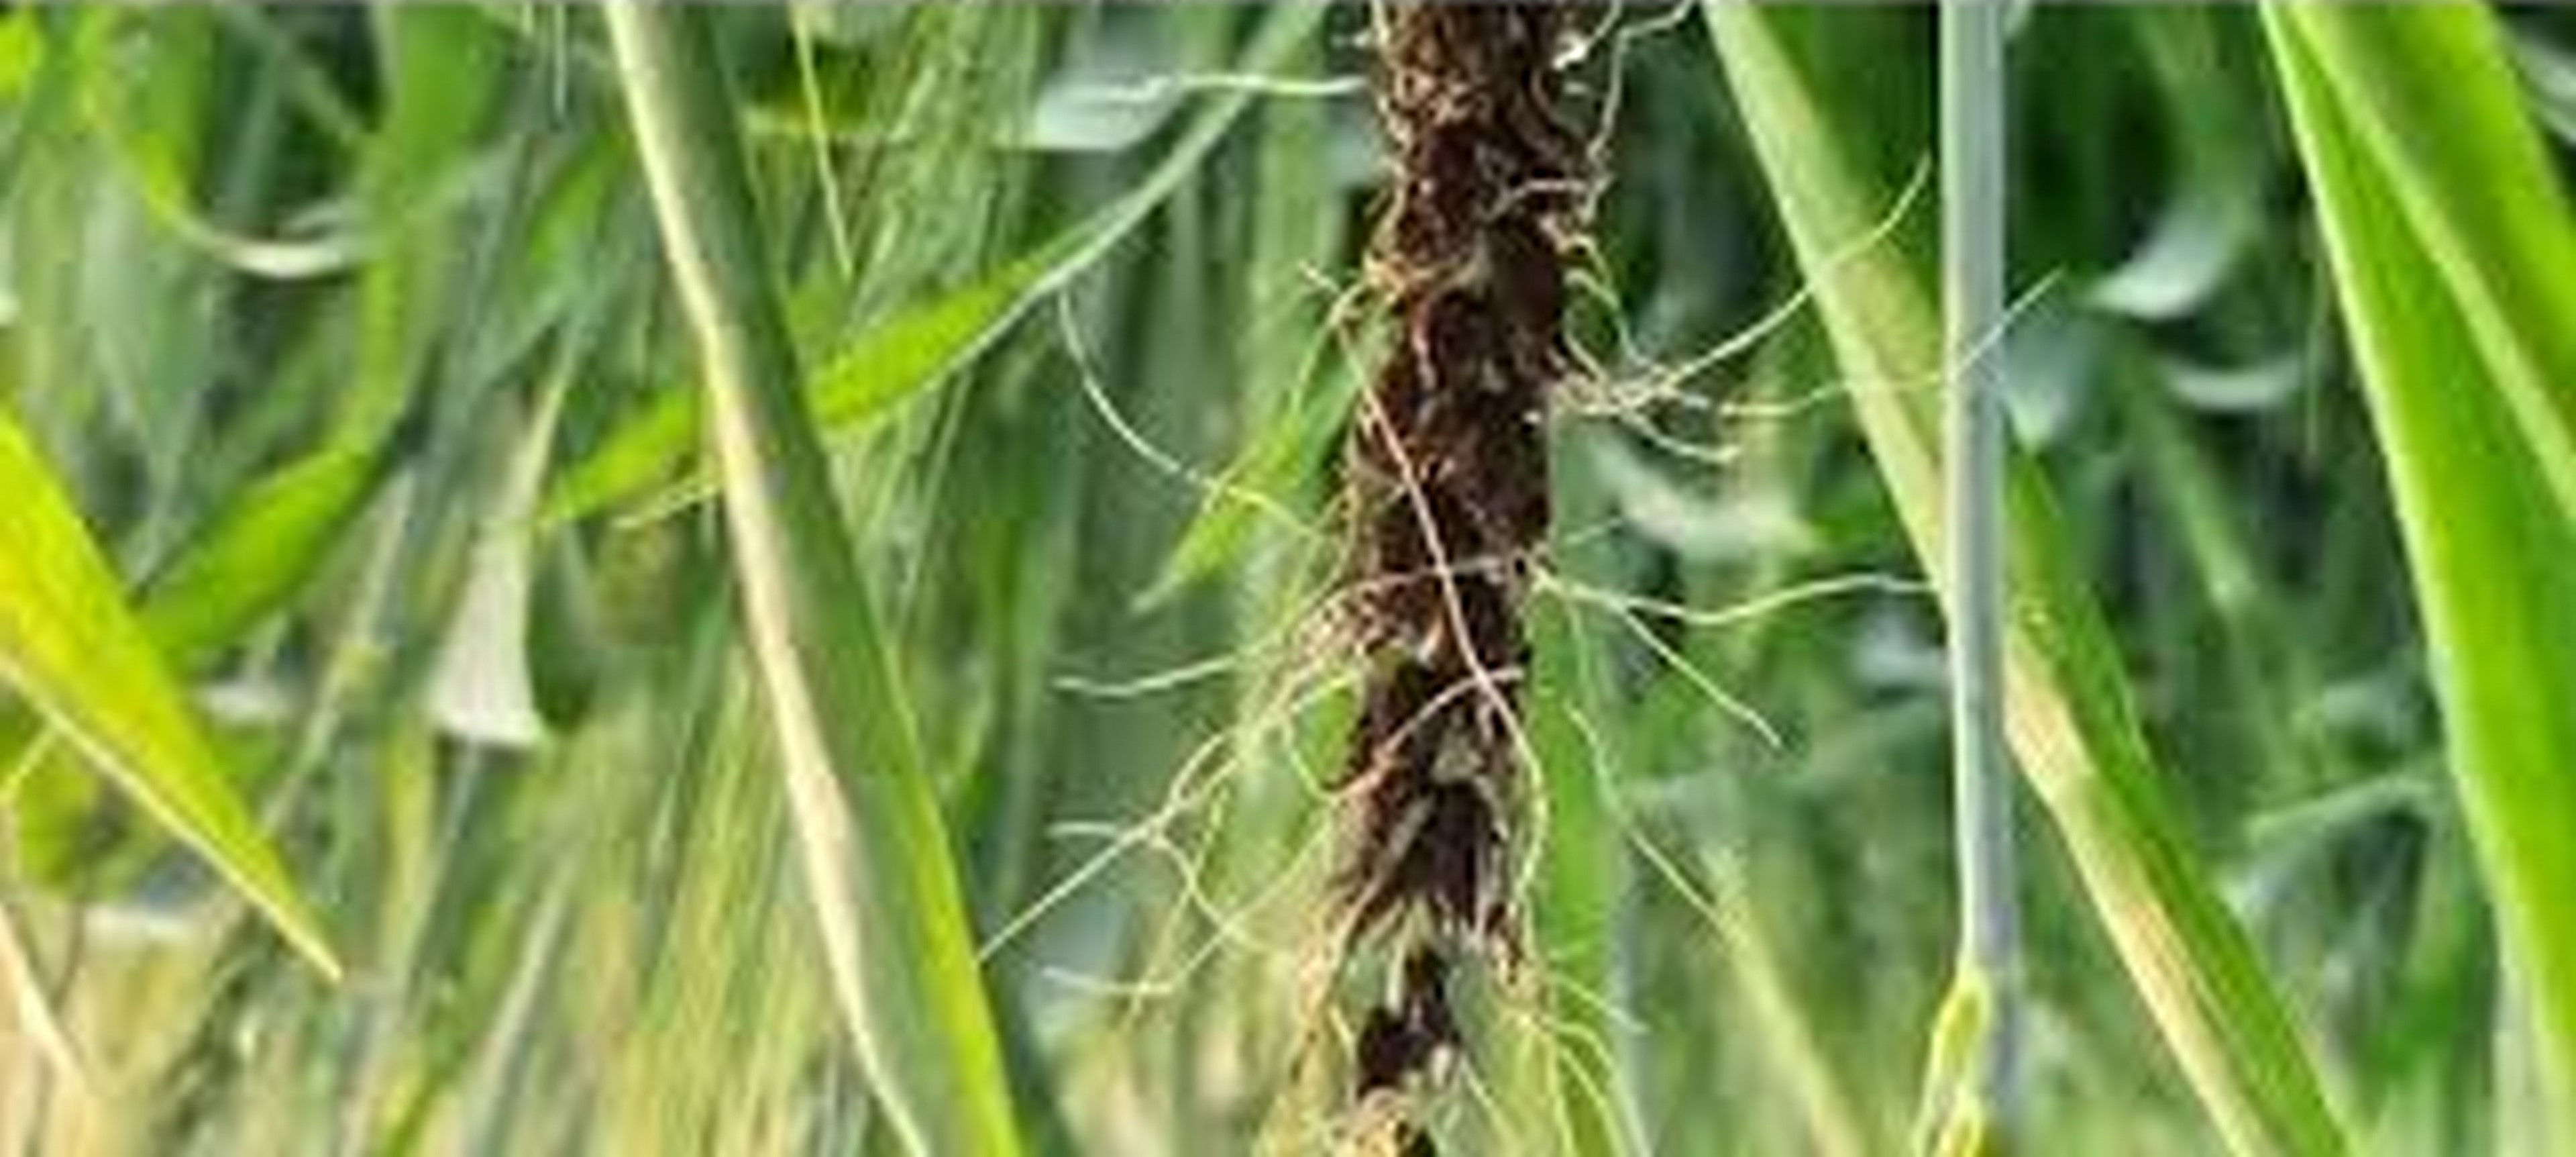Wheat Loose Smut: (1283, 59, 1620, 1053)
